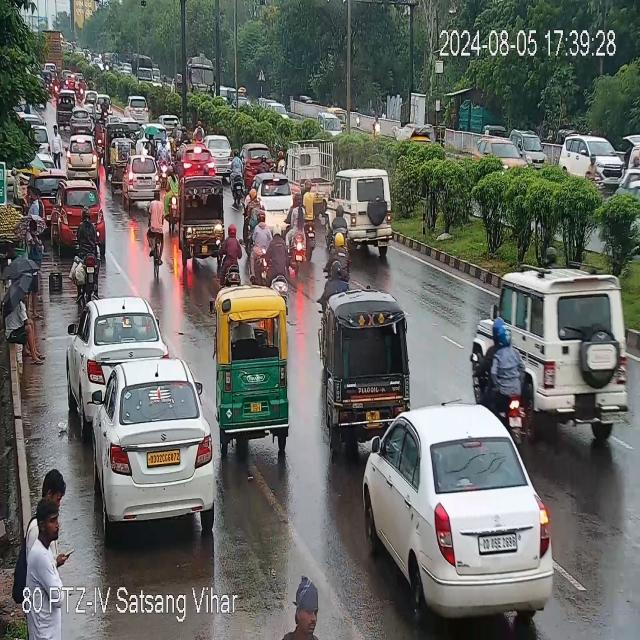2-wheelers: (486, 313, 523, 440), (74, 205, 100, 294), (218, 223, 246, 284), (324, 232, 350, 285), (290, 184, 304, 271), (268, 217, 284, 286), (152, 187, 164, 278), (304, 178, 316, 260), (165, 160, 178, 233), (253, 209, 267, 270), (232, 157, 247, 205), (247, 183, 258, 247), (329, 204, 342, 228), (195, 120, 203, 140)
auto: (318, 288, 414, 441), (214, 287, 294, 452), (179, 177, 229, 251), (105, 120, 134, 143), (109, 139, 133, 165), (56, 92, 76, 120)
car: (360, 400, 551, 618), (479, 264, 631, 420), (88, 366, 214, 526), (70, 296, 164, 405), (555, 135, 634, 192), (334, 168, 390, 248), (48, 184, 102, 242), (255, 174, 293, 228), (122, 158, 160, 208), (68, 134, 98, 181), (182, 144, 216, 178), (242, 140, 274, 171), (208, 134, 230, 167), (145, 126, 170, 150)
pedestrian: (292, 572, 328, 640), (7, 294, 40, 363), (34, 497, 61, 577), (28, 223, 42, 318), (27, 189, 48, 241), (45, 466, 68, 504), (53, 125, 61, 169)
truck: (284, 132, 329, 194)
